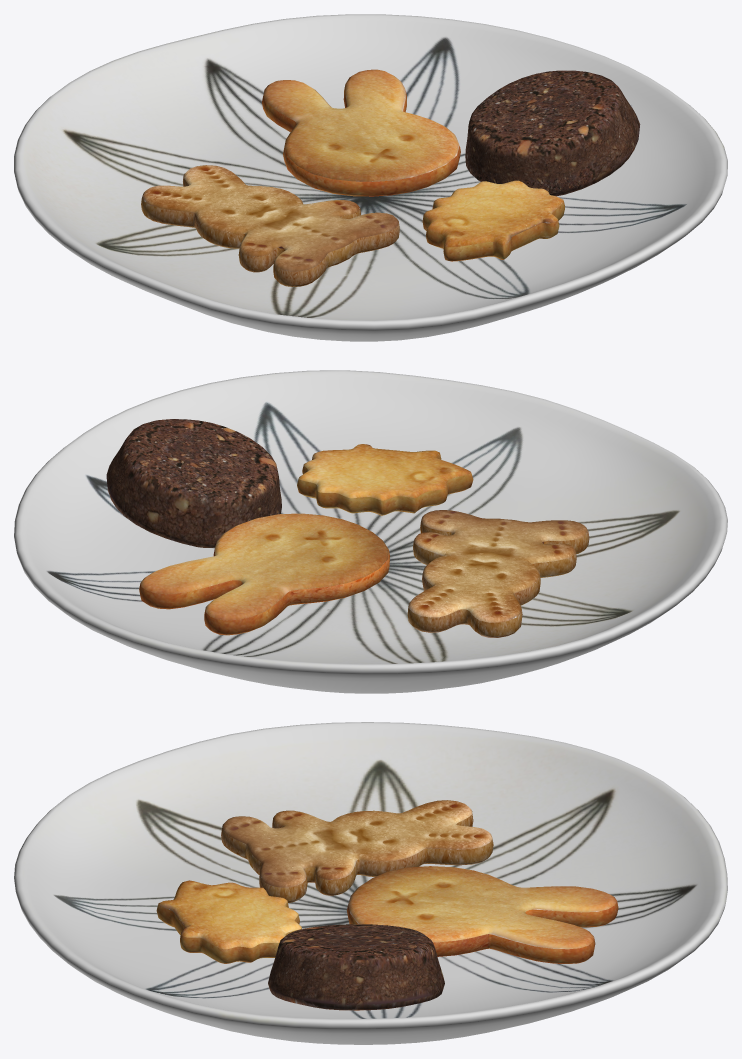
File: cookies.fbx
The picture shows the model from 3 angles, top to bottom: view 1: azimuth 30°, elevation 25°; view 2: azimuth 150°, elevation 25°; view 3: azimuth 270°, elevation 25°; orthographic projection. The views are drawn at different scales.
Parts seen in each view (by area): view 1: plate_white.Shape, cookie_miffy.Shape, cookie_choco.Shape, cookie.Shape, cookie_hedge.Shape; view 2: plate_white.Shape, cookie_miffy.Shape, cookie_choco.Shape, cookie.Shape, cookie_hedge.Shape; view 3: plate_white.Shape, cookie_miffy.Shape, cookie.Shape, cookie_choco.Shape, cookie_hedge.Shape.
Part boxes in pixels (x1,y1,x2,y2): plate_white.Shape: (14,14,727,341); cookie_miffy.Shape: (262,69,460,196); cookie_choco.Shape: (465,70,640,196); cookie.Shape: (141,165,399,286); cookie_hedge.Shape: (422,180,564,261); plate_white.Shape: (14,370,727,693); cookie_miffy.Shape: (139,513,389,635); cookie_choco.Shape: (106,419,281,547); cookie.Shape: (407,510,589,637); cookie_hedge.Shape: (297,444,473,515); plate_white.Shape: (14,722,727,1044); cookie_miffy.Shape: (347,866,618,963); cookie.Shape: (221,800,493,902); cookie_choco.Shape: (268,924,444,1010); cookie_hedge.Shape: (156,880,301,963).
Size of the model in its own units: 12.62 by 2.88 by 12.54.
Materials: 5 (5 with a texture image).
